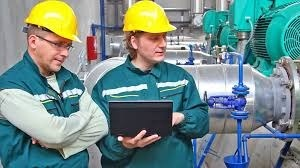helmet: (22, 1, 85, 45), (120, 1, 178, 38)
person with partial safety: (4, 1, 99, 162), (100, 1, 200, 129)
